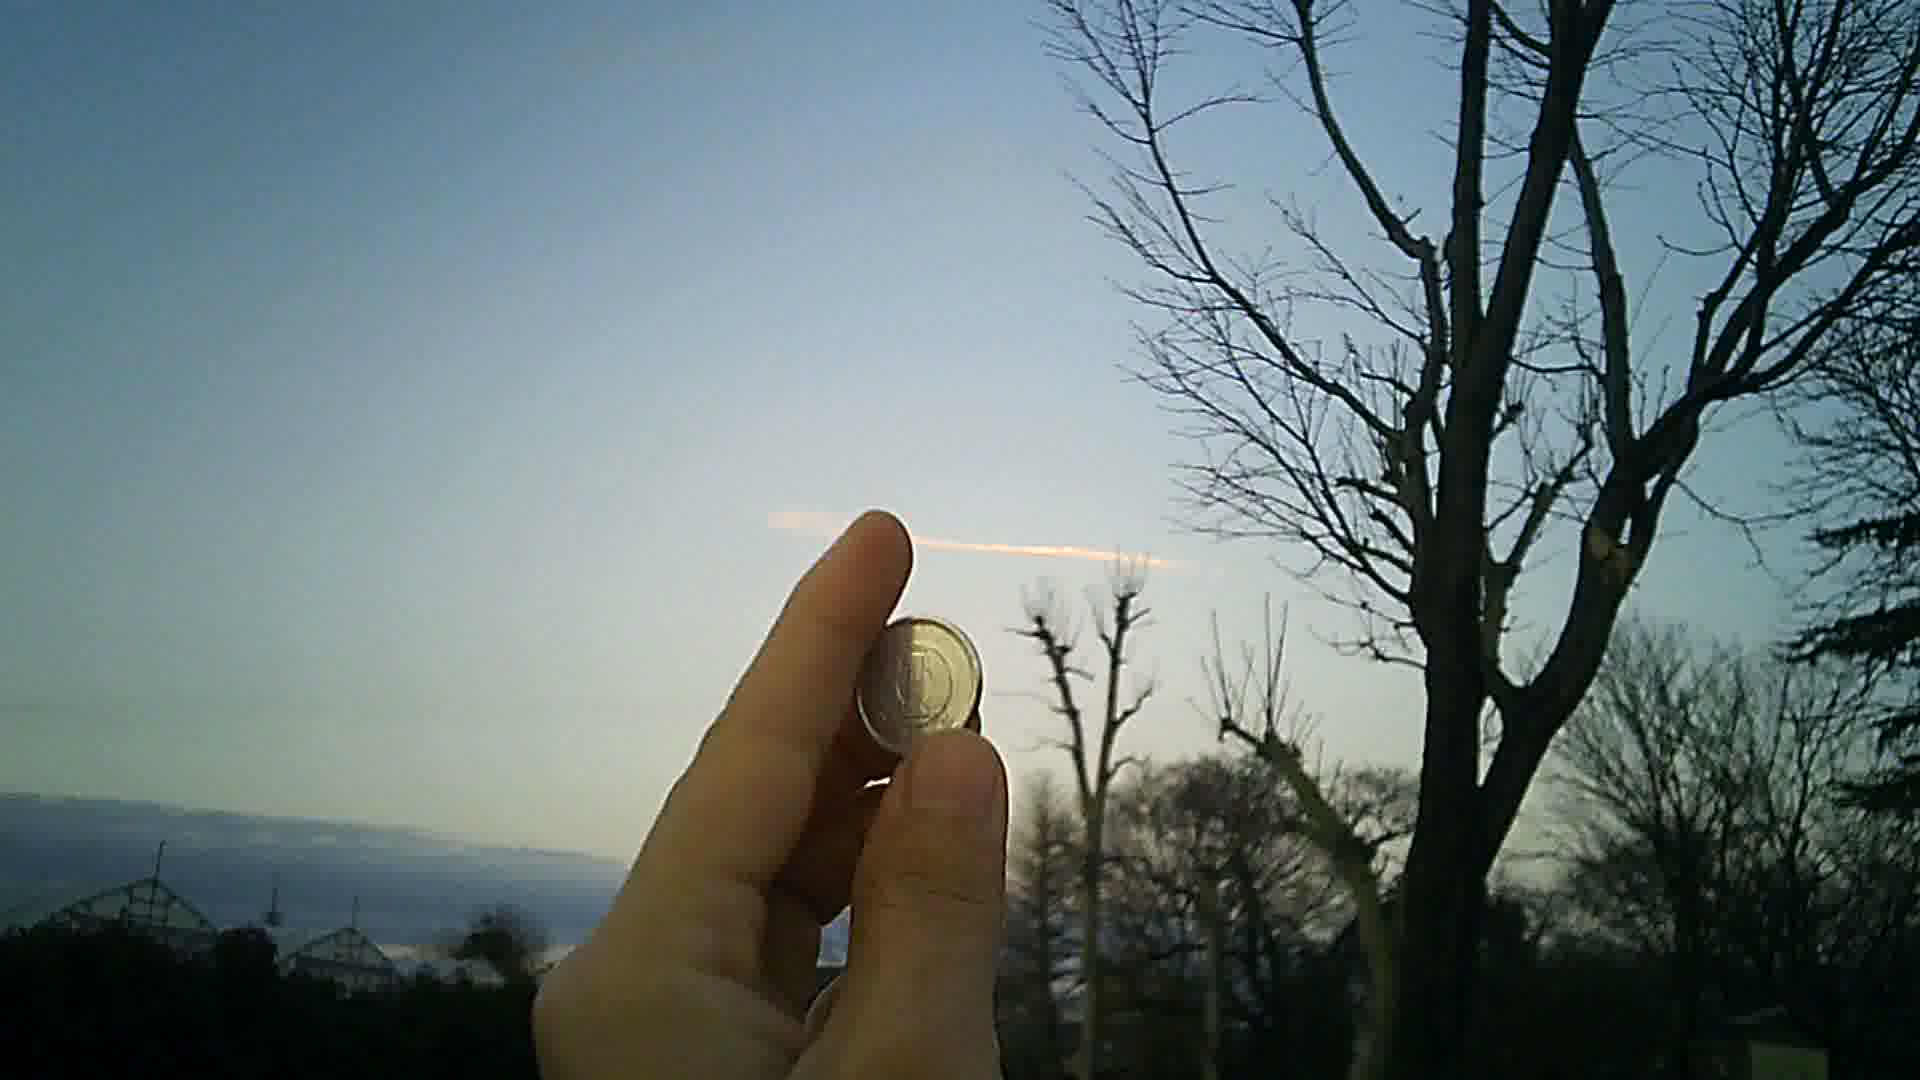1 Yen: (855, 608, 985, 756)
